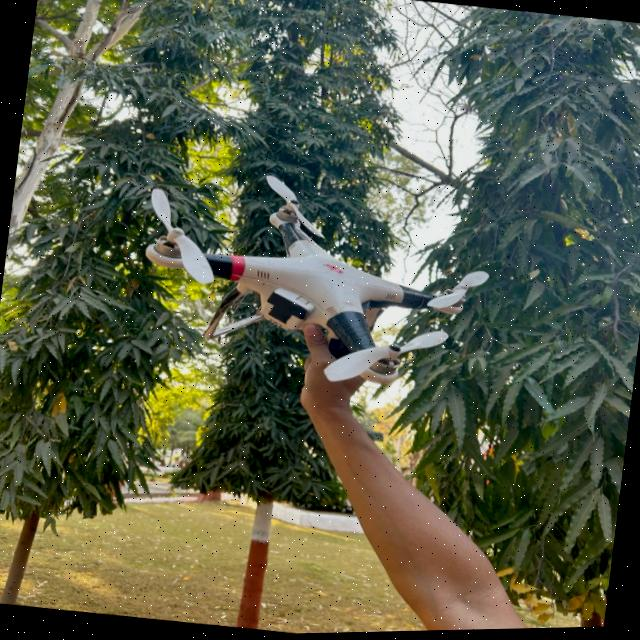drone: (94, 139, 534, 420)
